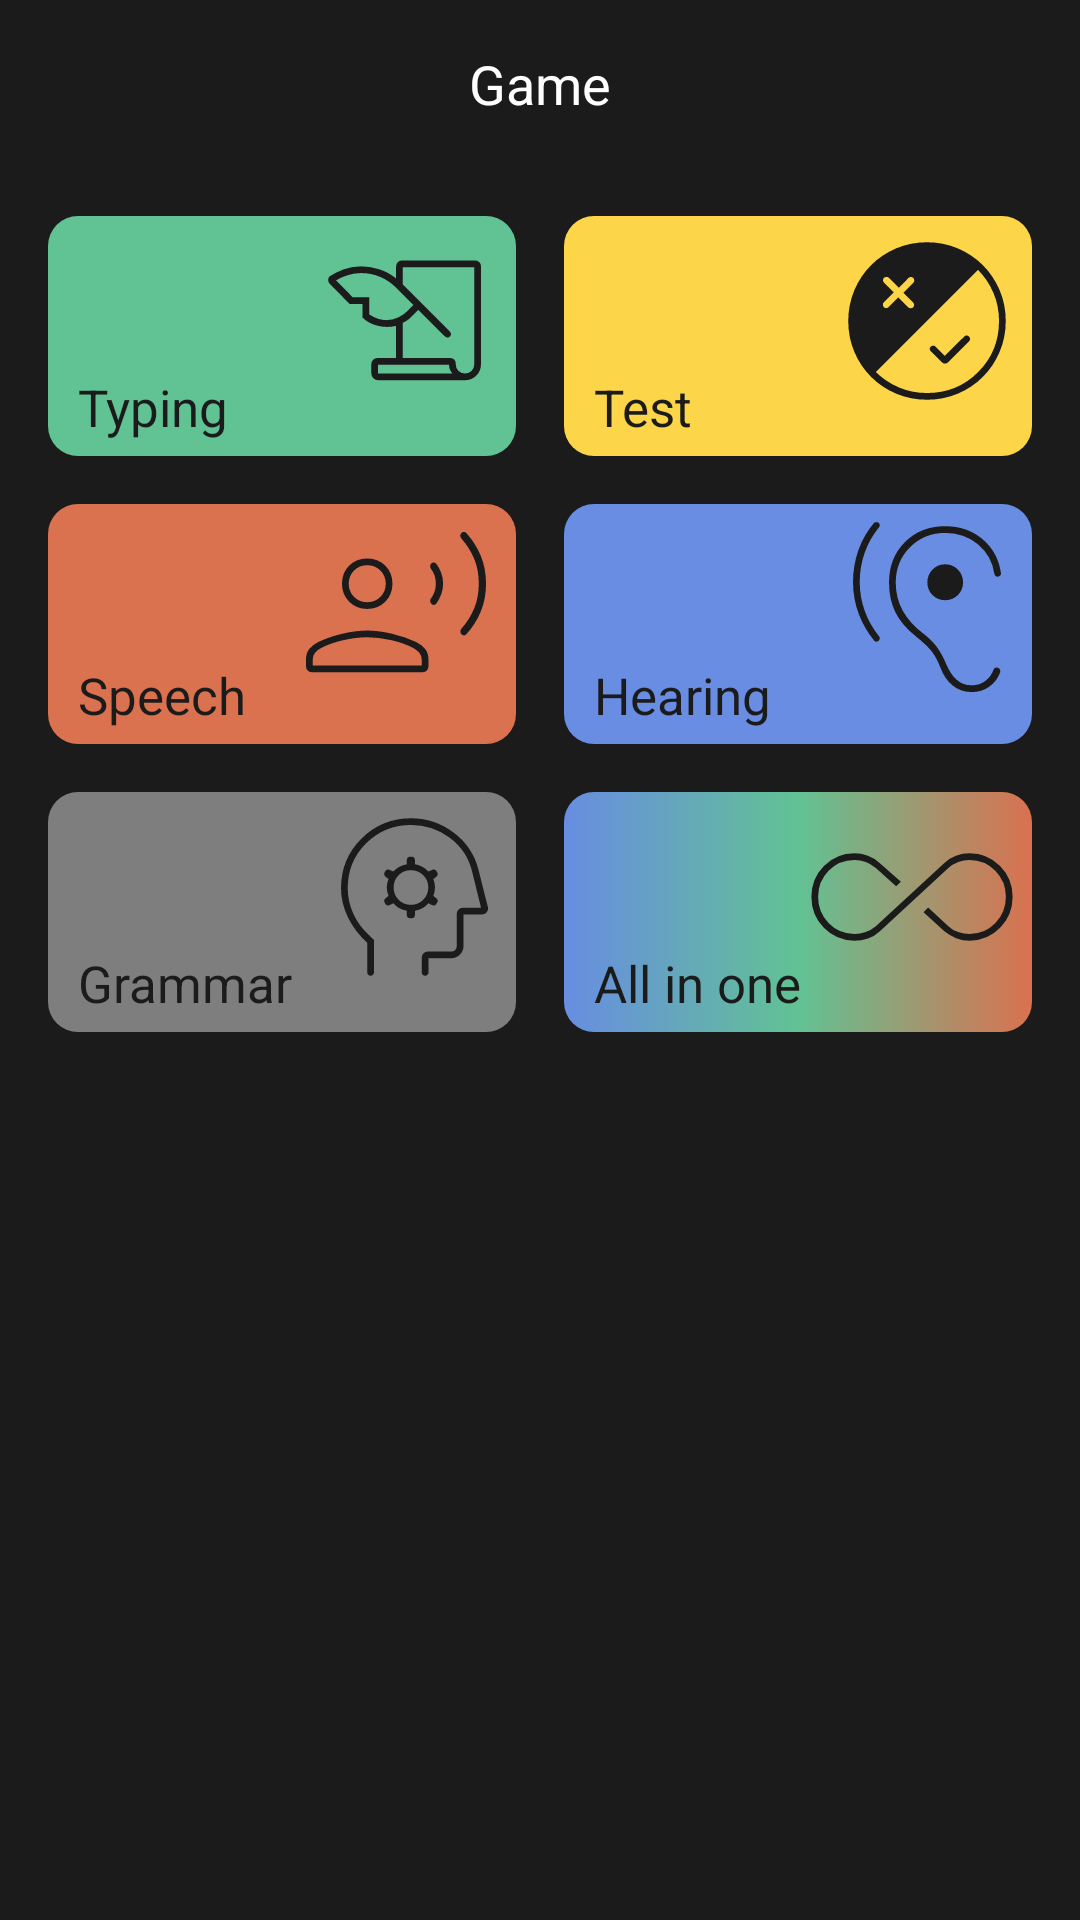

Point at icon controls on the screen. Image size 1080 x 1920, points as (x,y).
shuffle all: (912,897)
